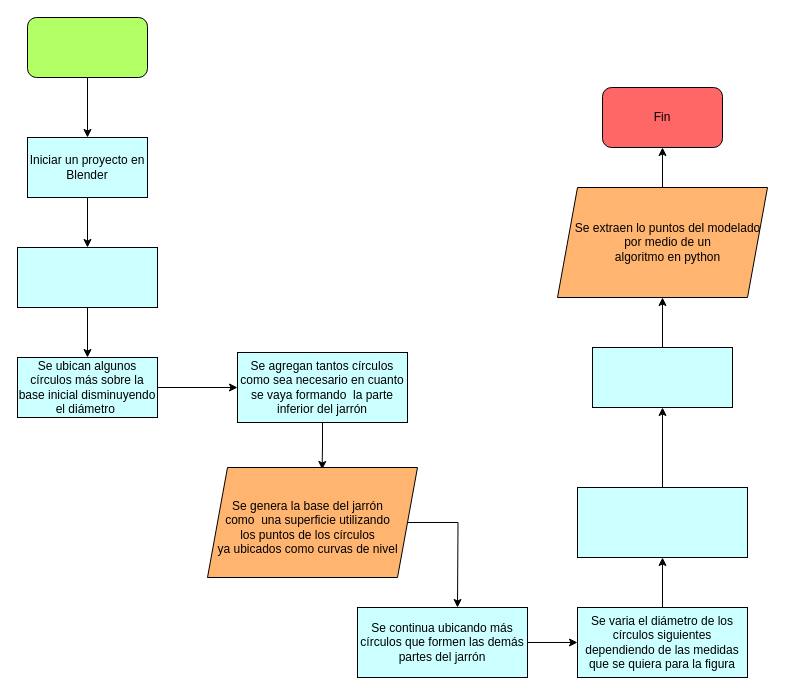
Image size: 785x695. Some labels were removed from this diagram. The shapes that lost their labels are listed below. From the top down, each one's box as (x1, y1, x2, y2) in pixels, then its label:
(26, 16, 148, 78): Inicio
(16, 246, 158, 308): Agregar un circulo inicial como base de la figura
(592, 346, 732, 408): Se transforma la figura en un sólido buscando que tenga grosor
(576, 486, 748, 558): Añadir los triángulos necesarios en la cima de la figura formando así el pico
